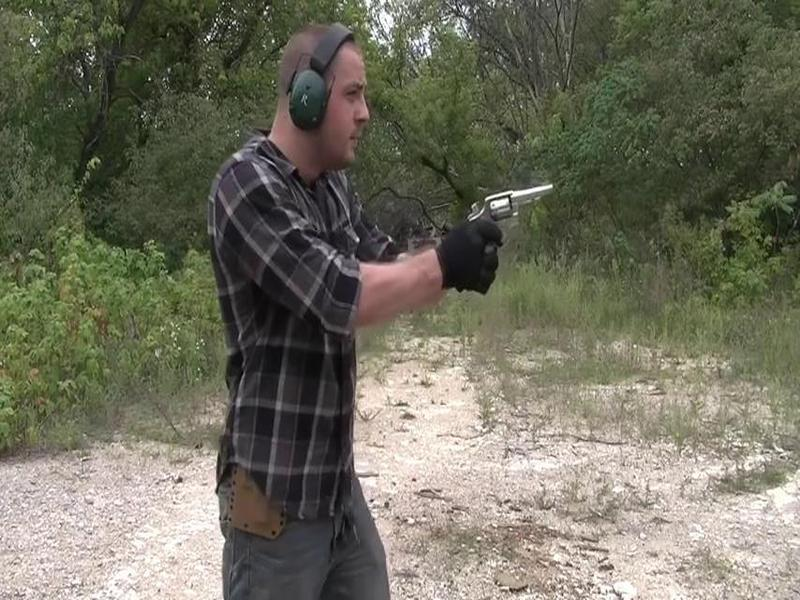Revolver: (442, 179, 558, 253)
